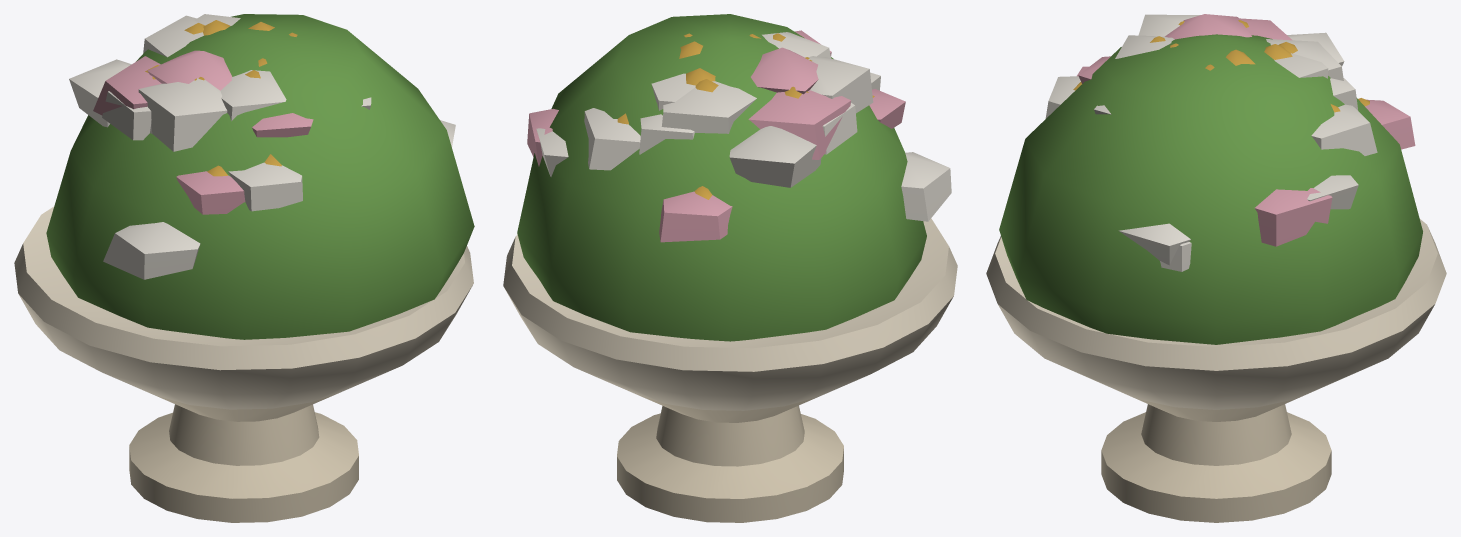
File: round-planter.glb
3 renders of one model, left to right at view 1: azimuth 30°, elevation 25°; view 2: azimuth 150°, elevation 25°; view 3: azimuth 270°, elevation 25°, orthographic.
Visible parts, largest first — view 1: round-planter; view 2: round-planter; view 3: round-planter.
Part boxes in pixels (box(x1,y1,x2,y2)): round-planter: box(14, 14, 474, 522); round-planter: box(503, 14, 957, 522); round-planter: box(986, 14, 1446, 522).
Size of the model in its own units: 1.04 by 1.09 by 1.04.
